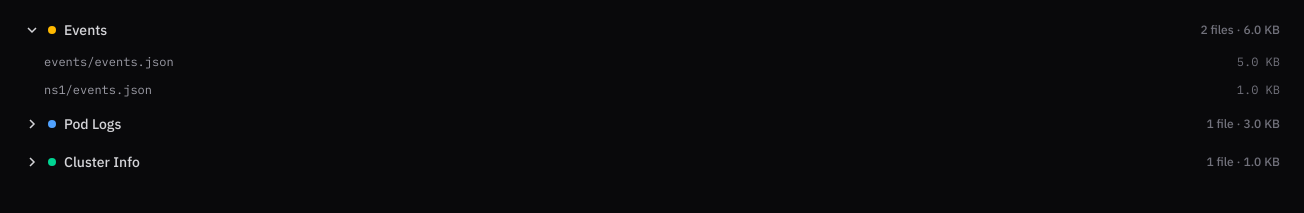
Test: FileExplorer › clicking a collapsed group expands it to show files
Pod Logs is collapsed — expand it
Click the text "Pod Logs" at coordinates (93, 124), box x1=64 y1=114 x2=121 y2=134
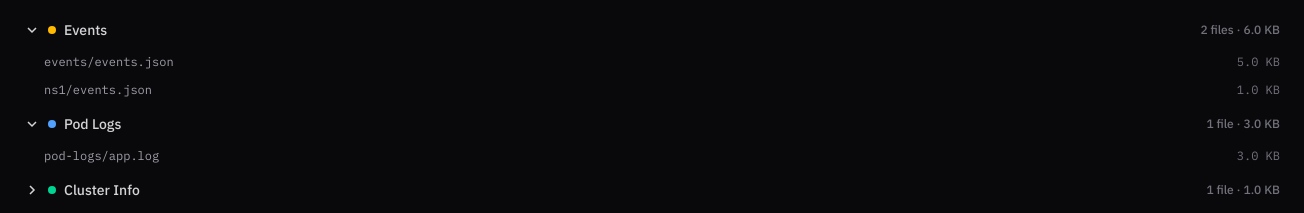
expect the text "pod-logs/app.log" is shown: met, box x1=44 y1=148 x2=159 y2=164
